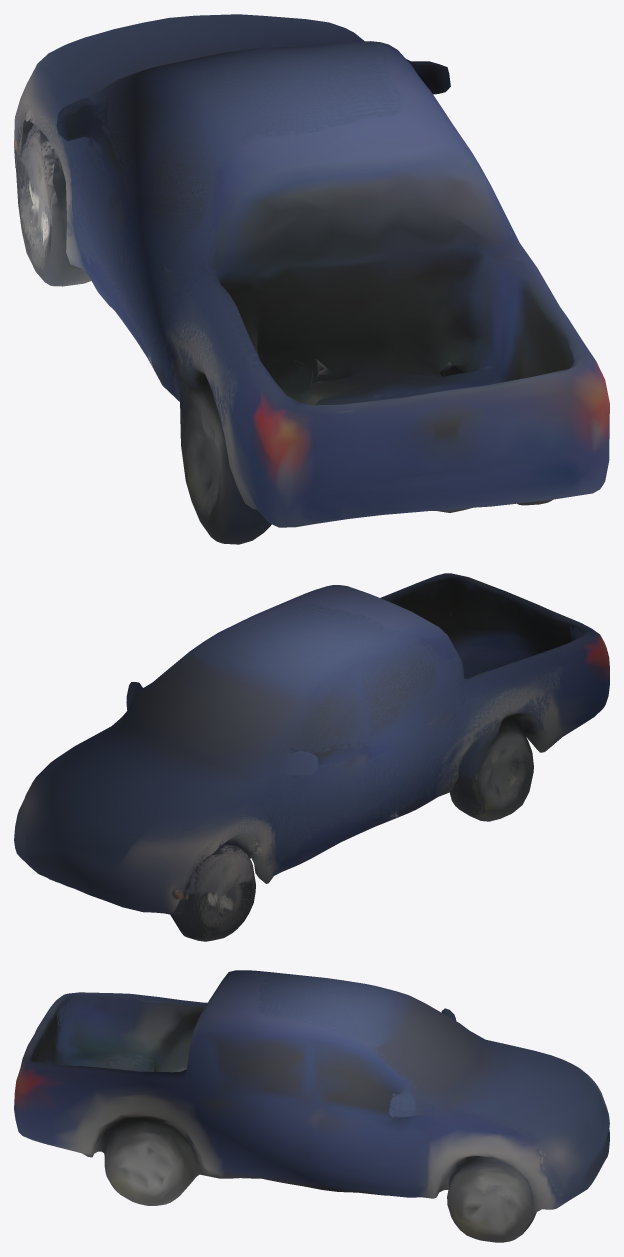
The model's file is sword.glb.
3 renders of one model, top to bottom at view 1: azimuth 30°, elevation 25°; view 2: azimuth 150°, elevation 25°; view 3: azimuth 270°, elevation 25°, orthographic. The views are drawn at different scales.
Size of the model in its own units: 0.8906 by 0.5428 by 1.6.
1 material, 1 textured.
